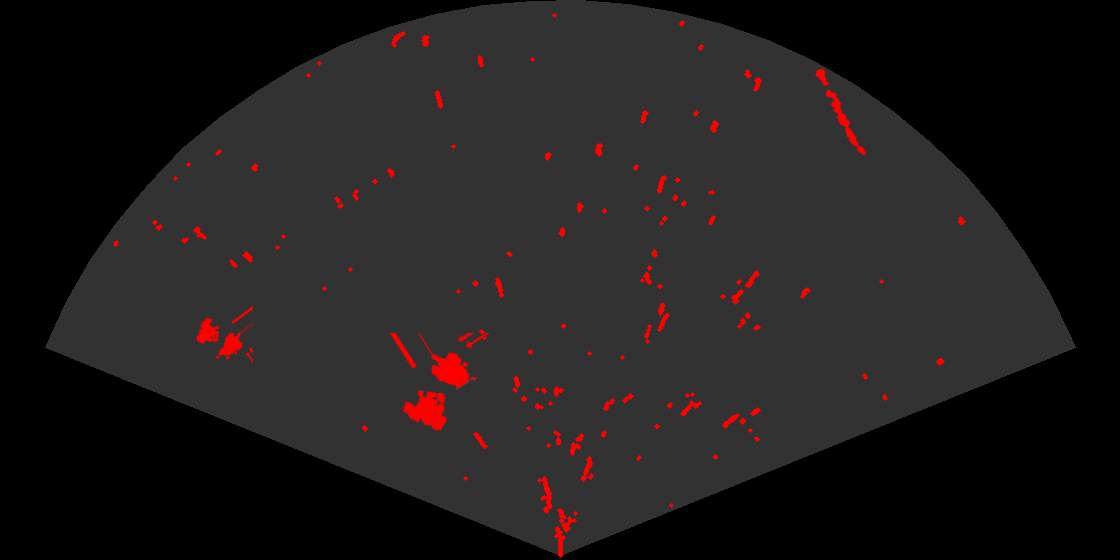cage: (388, 333, 491, 432), (195, 304, 253, 365)
chain: (813, 67, 868, 157)
